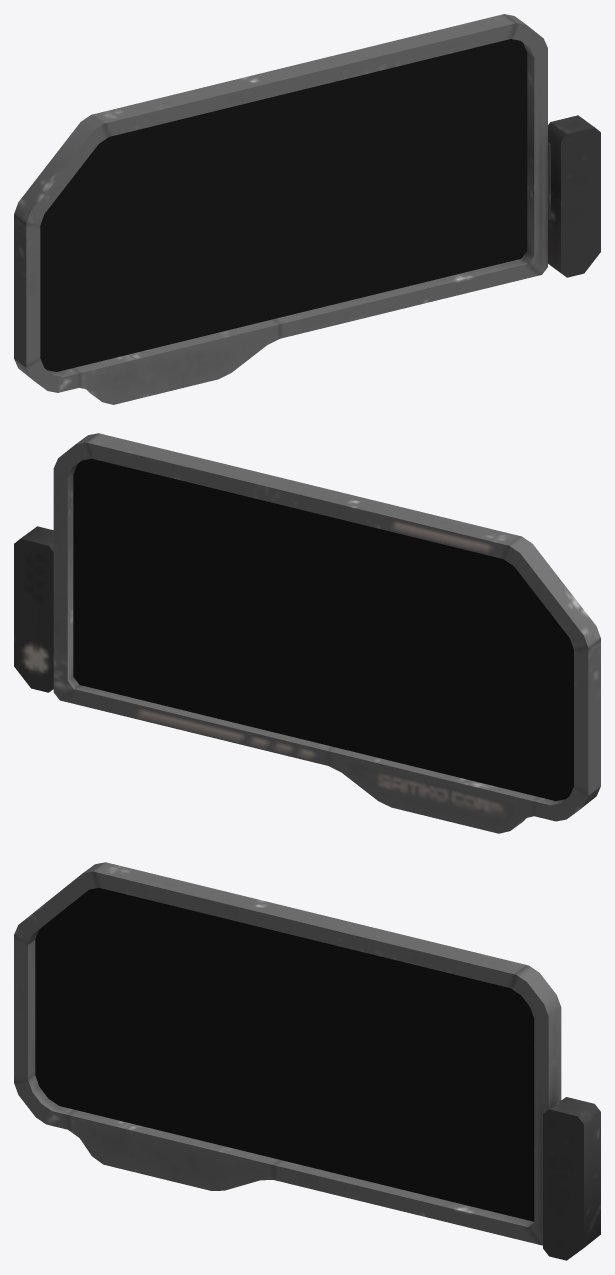
File: SM_Holoscreen_B.FBX
3 renders of one model, top to bottom at view 1: azimuth 30°, elevation 25°; view 2: azimuth 150°, elevation 25°; view 3: azimuth 330°, elevation 25°, orthographic. The views are drawn at different scales.
Parts seen in each view (by area): view 1: SM_Holoscreen_B; view 2: SM_Holoscreen_B; view 3: SM_Holoscreen_B.
Boxes of the visible parts, box(x1,y1,x2,y2) form: SM_Holoscreen_B: box(14, 14, 600, 404); SM_Holoscreen_B: box(14, 433, 600, 833); SM_Holoscreen_B: box(14, 862, 600, 1260).
Size of the model in its own units: 65.51 by 31.4 by 4.34.
Materials: 1 (1 with a texture image).
